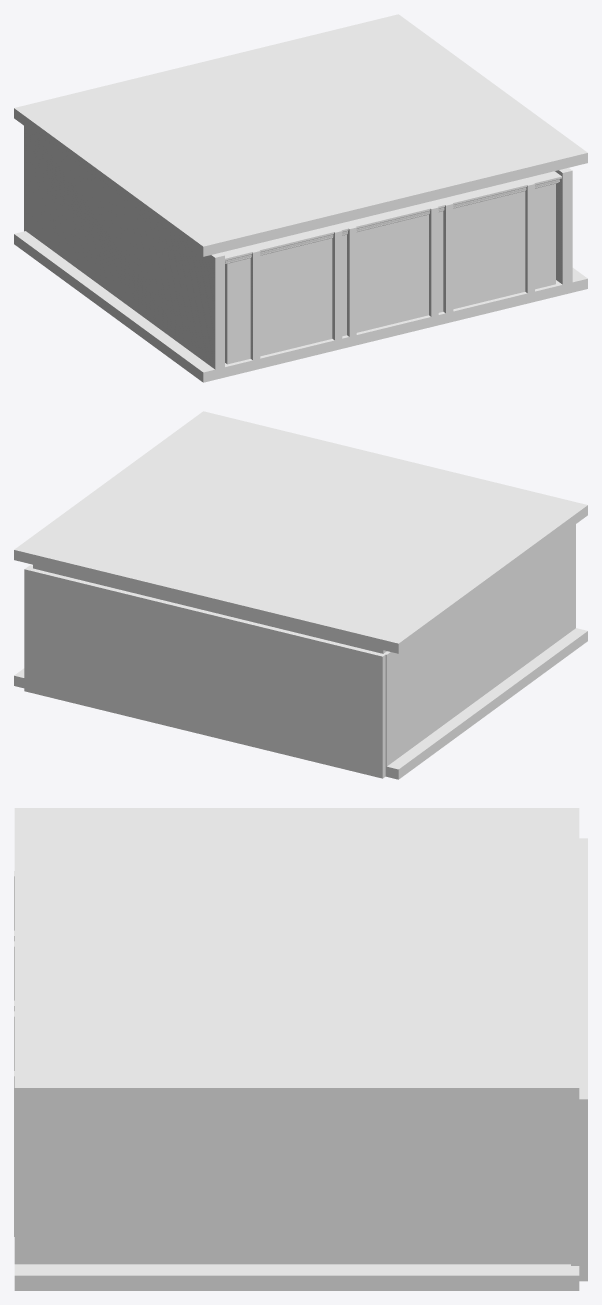
File: TutorialMap.fbx
3 renders of one model, top to bottom at view 1: azimuth 30°, elevation 25°; view 2: azimuth 150°, elevation 25°; view 3: azimuth 270°, elevation 25°, orthographic. The views are drawn at different scales.
Parts seen in each view (by area): view 1: TutorialMap03, TutorialMap02, TutorialMap01, TutorialMap00, TutorialMap04; view 2: TutorialMap03, TutorialMap02; view 3: TutorialMap03, TutorialMap02.
Boxes of the visible parts, x1=… form: TutorialMap03: x1=14, y1=14, x2=587, y2=256; TutorialMap02: x1=14, y1=126, x2=587, y2=382; TutorialMap01: x1=417, y1=171, x2=561, y2=317; TutorialMap00: x1=221, y1=218, x2=368, y2=364; TutorialMap04: x1=317, y1=194, x2=465, y2=340; TutorialMap03: x1=14, y1=411, x2=587, y2=653; TutorialMap02: x1=14, y1=524, x2=587, y2=779; TutorialMap03: x1=14, y1=808, x2=579, y2=1103; TutorialMap02: x1=14, y1=838, x2=587, y2=1290.
Bounding box in the file's own units: 370 × 125 × 321.
